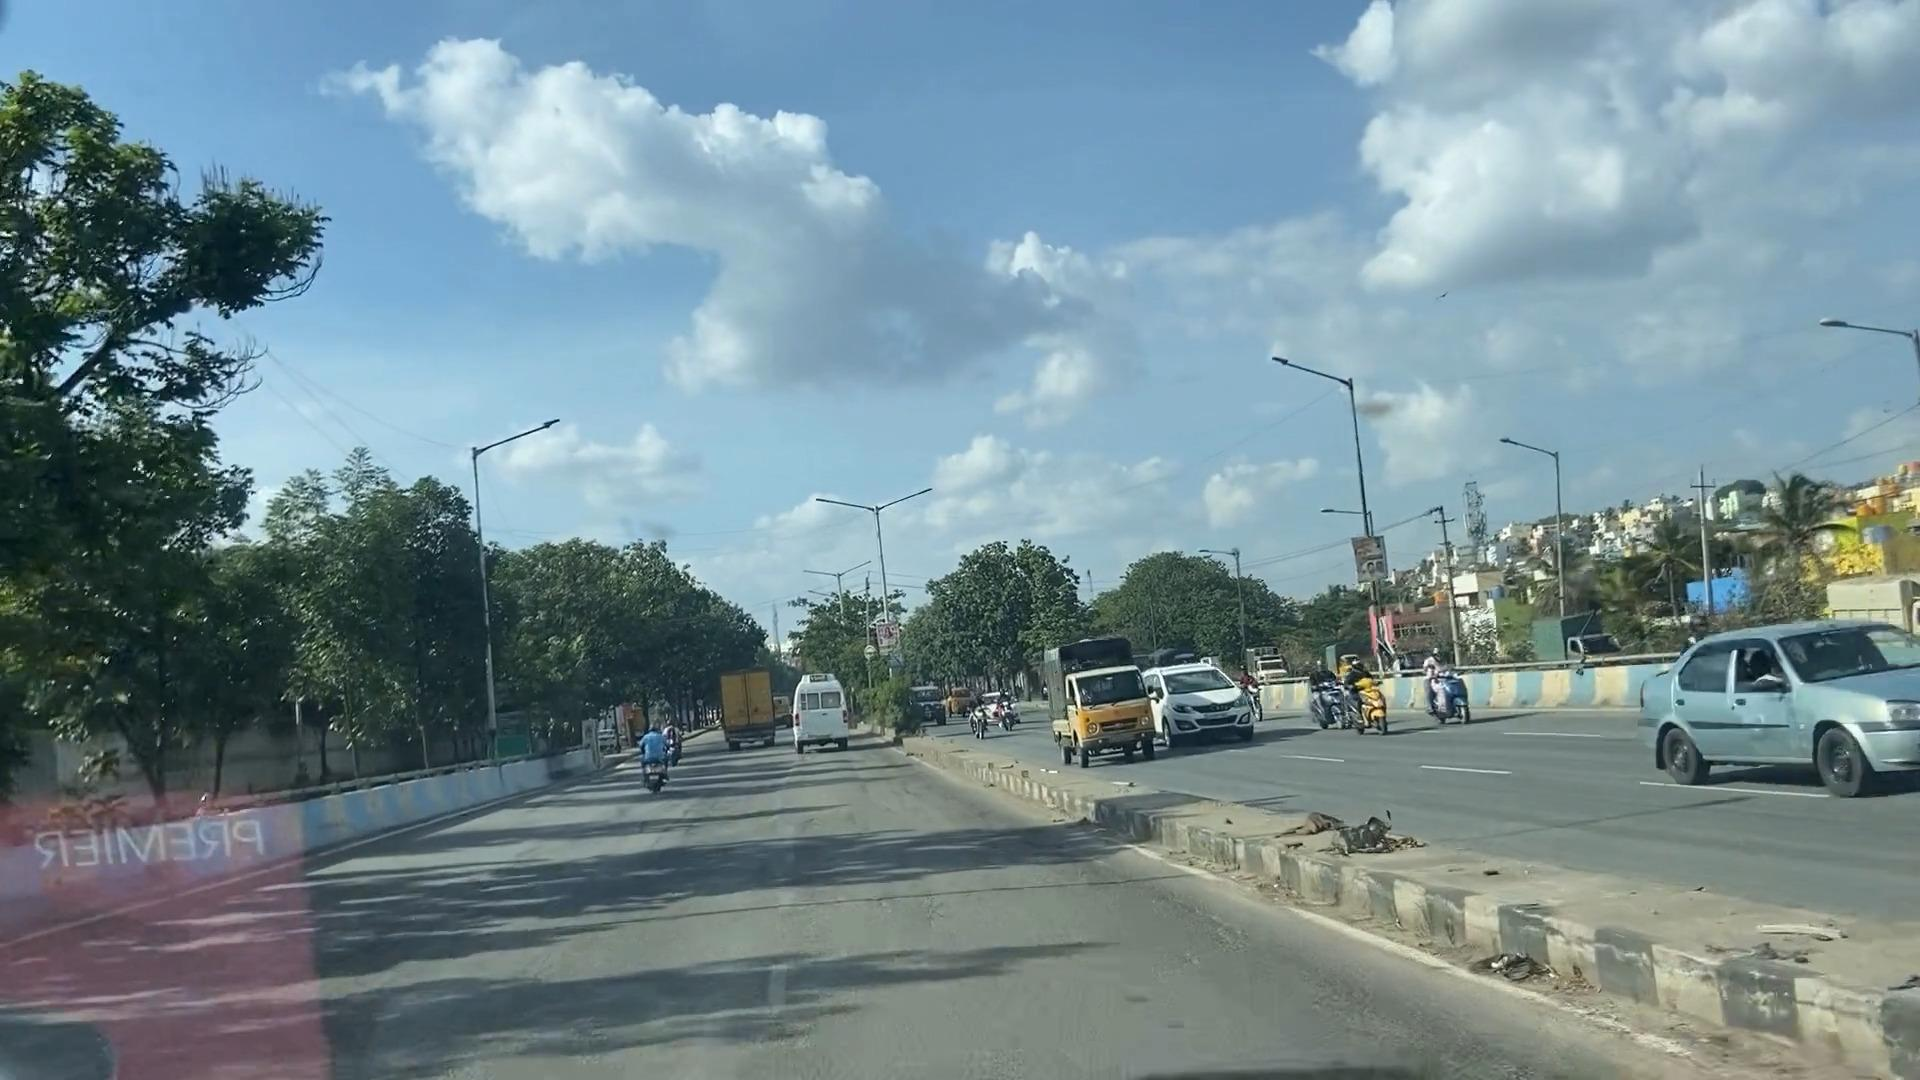HMV: (801, 654, 857, 760), (706, 661, 771, 750)
LMV: (631, 717, 676, 797)
